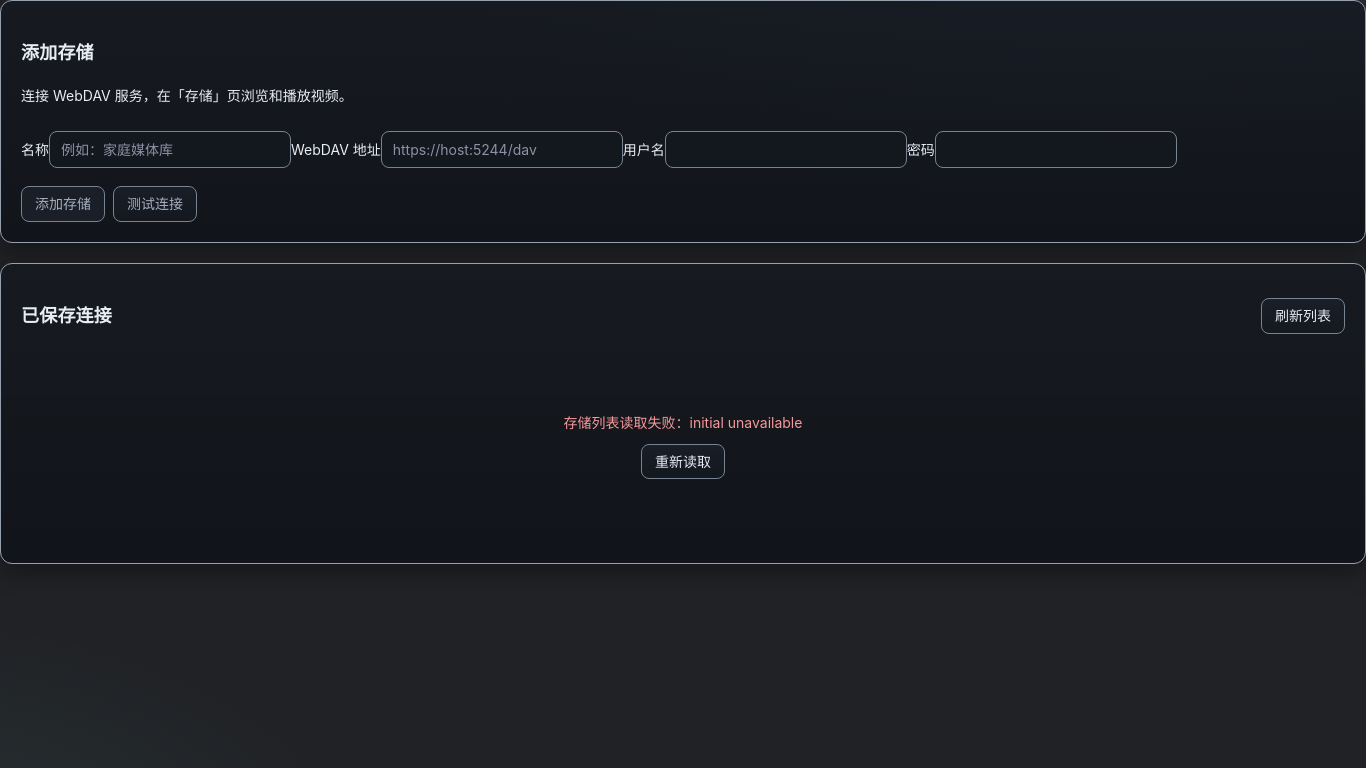
Scenario: settings section presenters › shows a committed storage save when both the initial list load and follow-up refresh fail
Expected: the text "存储列表读取失败：initial unavailable" is shown, x1=564 y1=412 x2=802 y2=434
Type "家庭 NAS" into the field labelled "名称" at (170, 149), box x1=49 y1=131 x2=291 y2=168
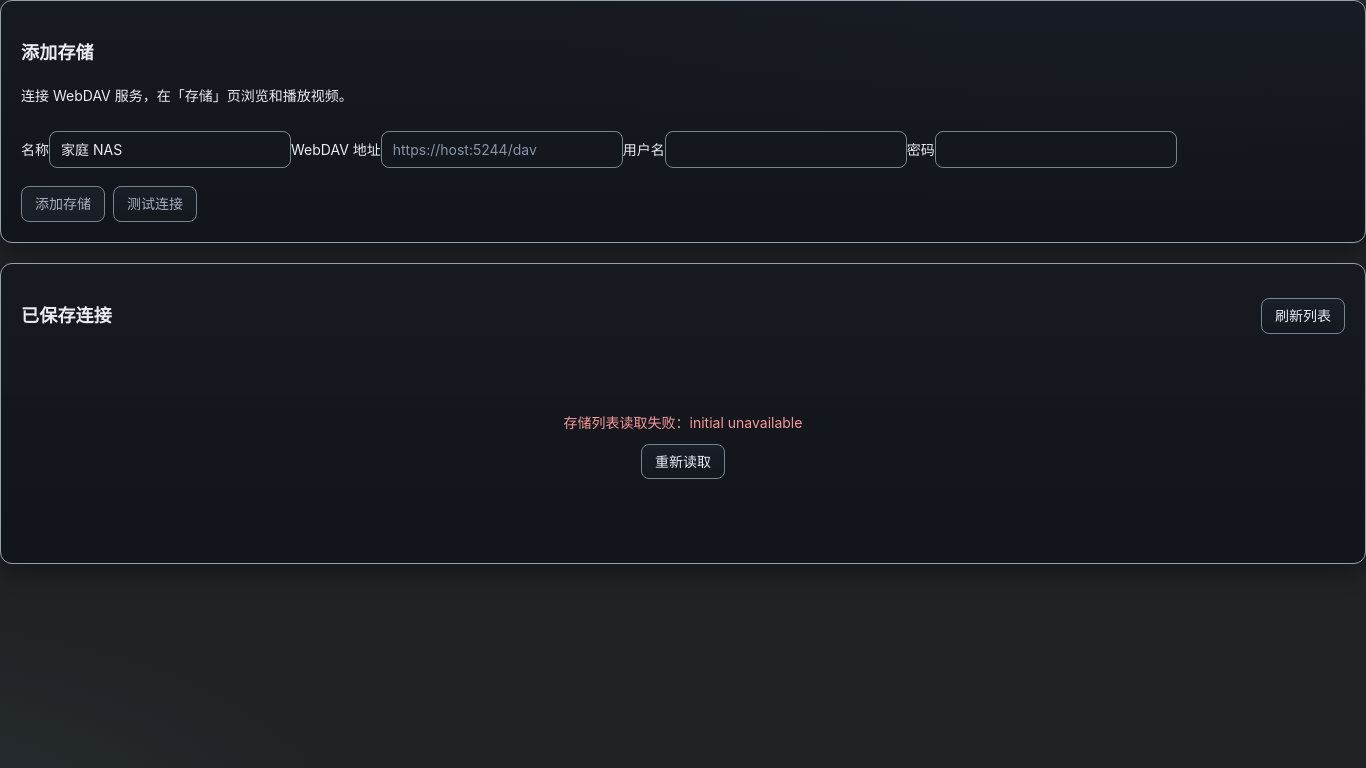
Type "https://nas.example/dav" into the field labelled "WebDAV 地址" at (502, 149), box x1=381 y1=131 x2=623 y2=168
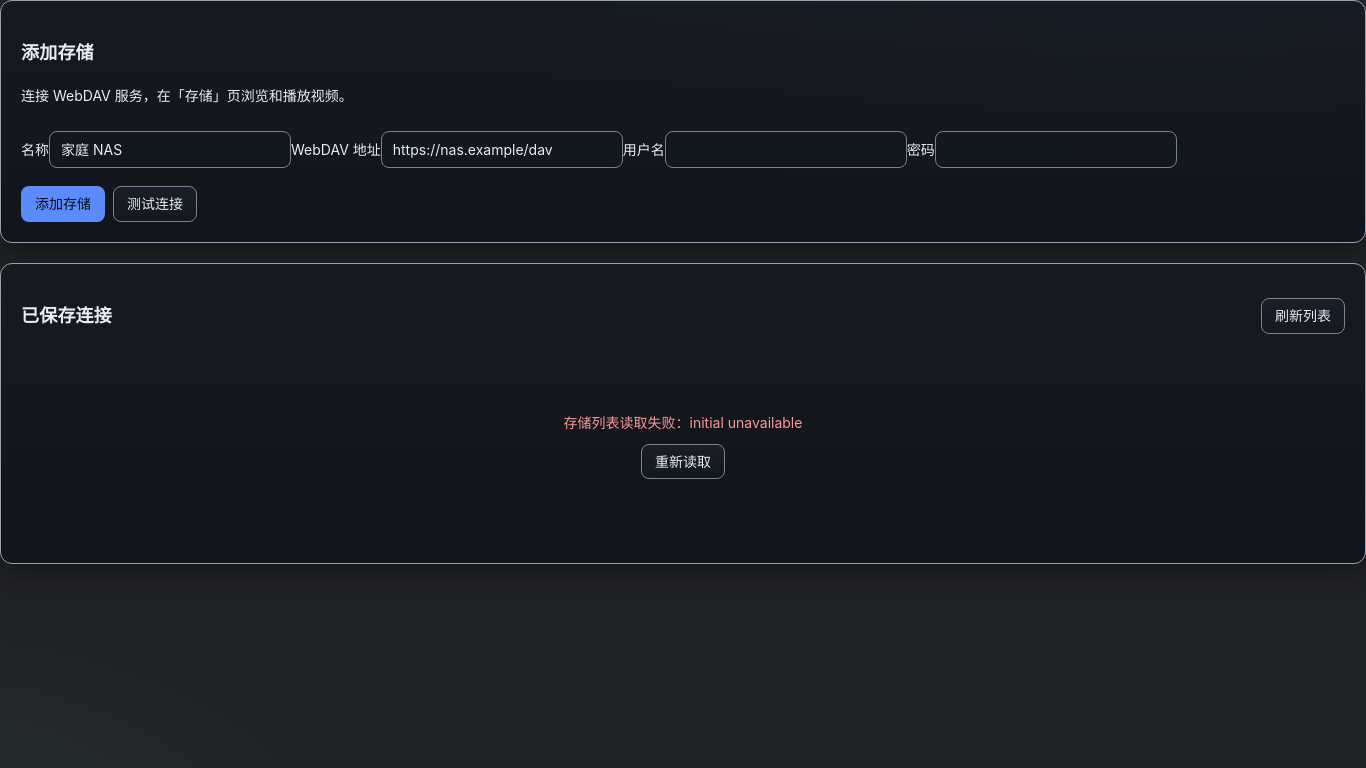
Click the button "添加存储" at (63, 204), box x1=21 y1=186 x2=105 y2=222
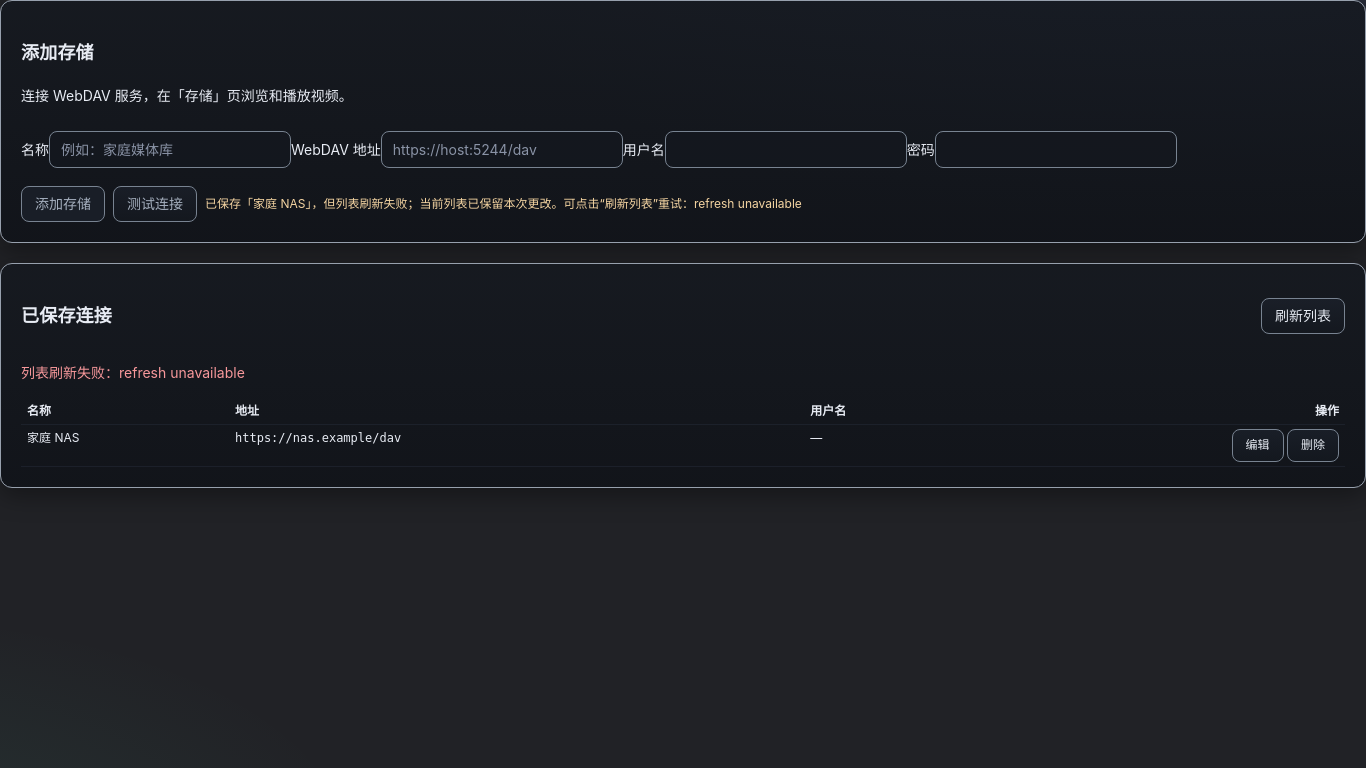
Now the text "已保存「家庭 NAS」，但列表刷新失败；当前列表已保留本次更改。可点击“刷新列表”重试：refresh unavailable" is shown, box x1=205 y1=195 x2=802 y2=213
Now the field labelled "名称" is empty, box x1=49 y1=131 x2=291 y2=168
Now the text "家庭 NAS" is shown, box x1=21 y1=425 x2=229 y2=466
